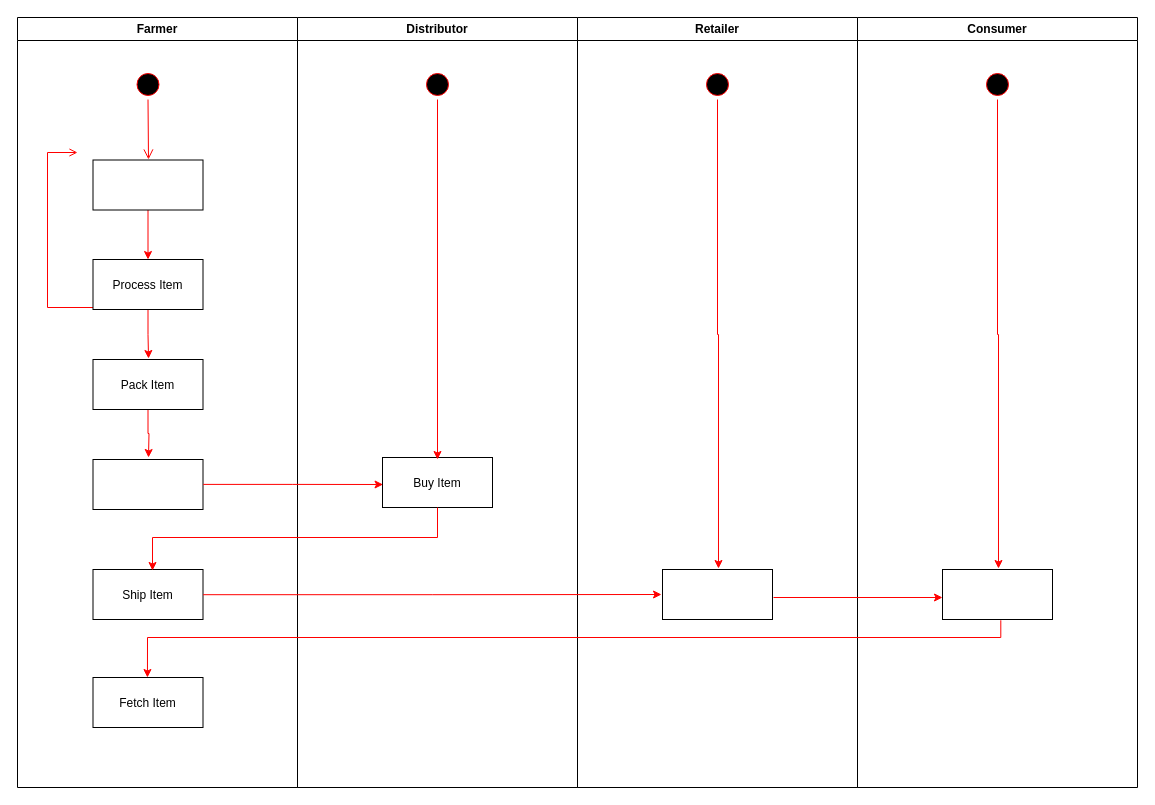
Some shapes in this 1155 by 805 pixel diagram are drawn without their labels. The shapes that lost their labels are listed below. From the top down, each one's centre as x and y in pixels, then its label:
At [147,184]: "Harvest Item".
At [147,484]: "Add Item".
At [717,594]: "Receive Item".
At [997,594]: "Purchase Item".
